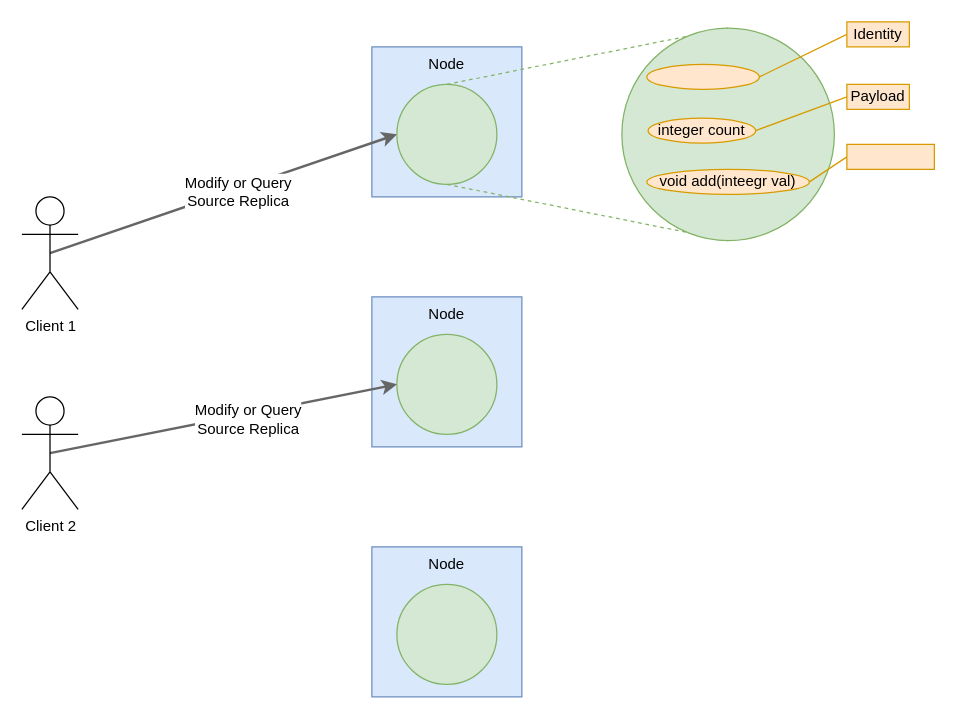
The diagram is 956 pixels wide and 719 high, and some of its shapes have lost their labels. The shapes that lost their labels are listed below. From the top down, each one's centre as x and y in pixels, then its label:
At [702,76]: "integer id = 0".
At [446,133]: "GCounter_0".
At [890,156]: "Operations".
At [446,383]: "GCounter_1".
At [446,633]: "GCounter_2".
